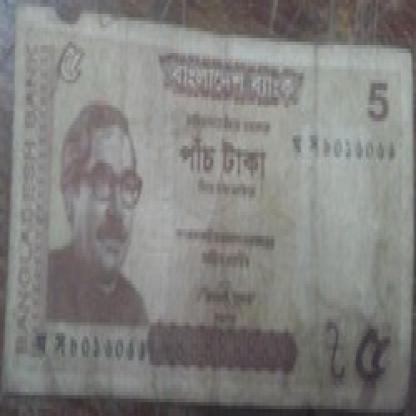Five Taka: (175, 124, 271, 190), (351, 315, 393, 392), (363, 70, 394, 136), (53, 28, 87, 86)
